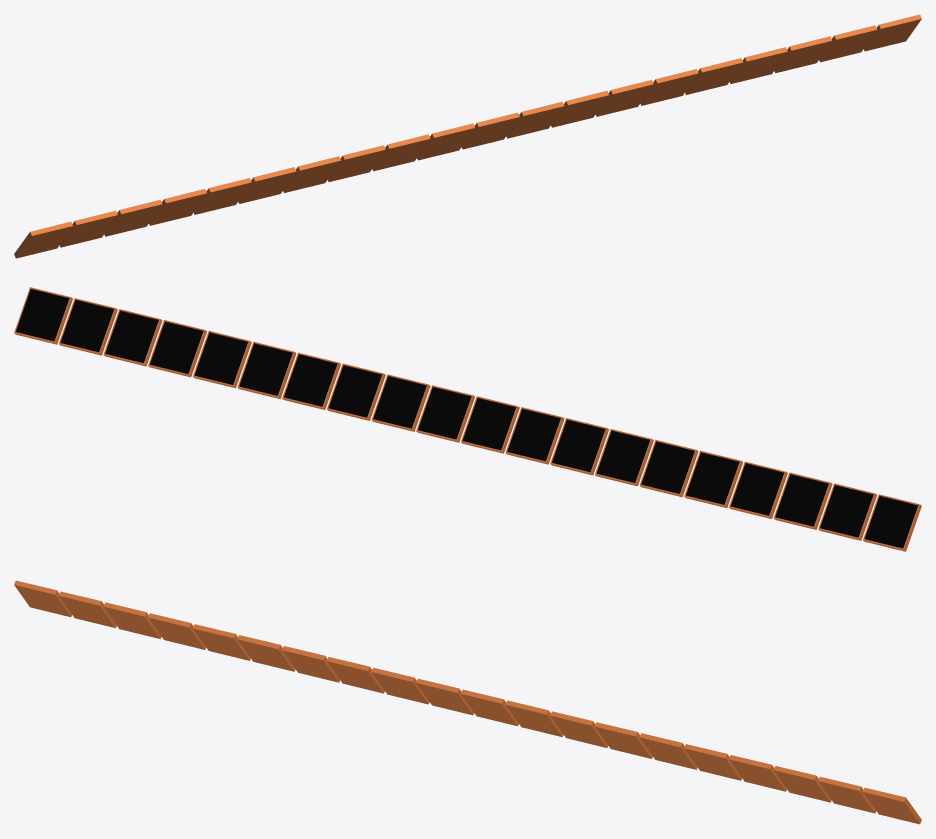
File: airVent[mini][BOTTOM].fbx
3 renders of one model, top to bottom at view 1: azimuth 30°, elevation 25°; view 2: azimuth 150°, elevation 25°; view 3: azimuth 330°, elevation 25°, orthographic.
Visible parts, largest first — view 1: VentAir0[mini][BOTTOM].002; view 2: VentAir0[mini][BOTTOM].002; view 3: VentAir0[mini][BOTTOM].002.
Part boxes in pixels (x1,y1,x2,y2): VentAir0[mini][BOTTOM].002: (14,14,921,258); VentAir0[mini][BOTTOM].002: (14,287,921,551); VentAir0[mini][BOTTOM].002: (14,580,921,824).
Bounding box in the file's own units: 840 × 33.69 × 29.46.
